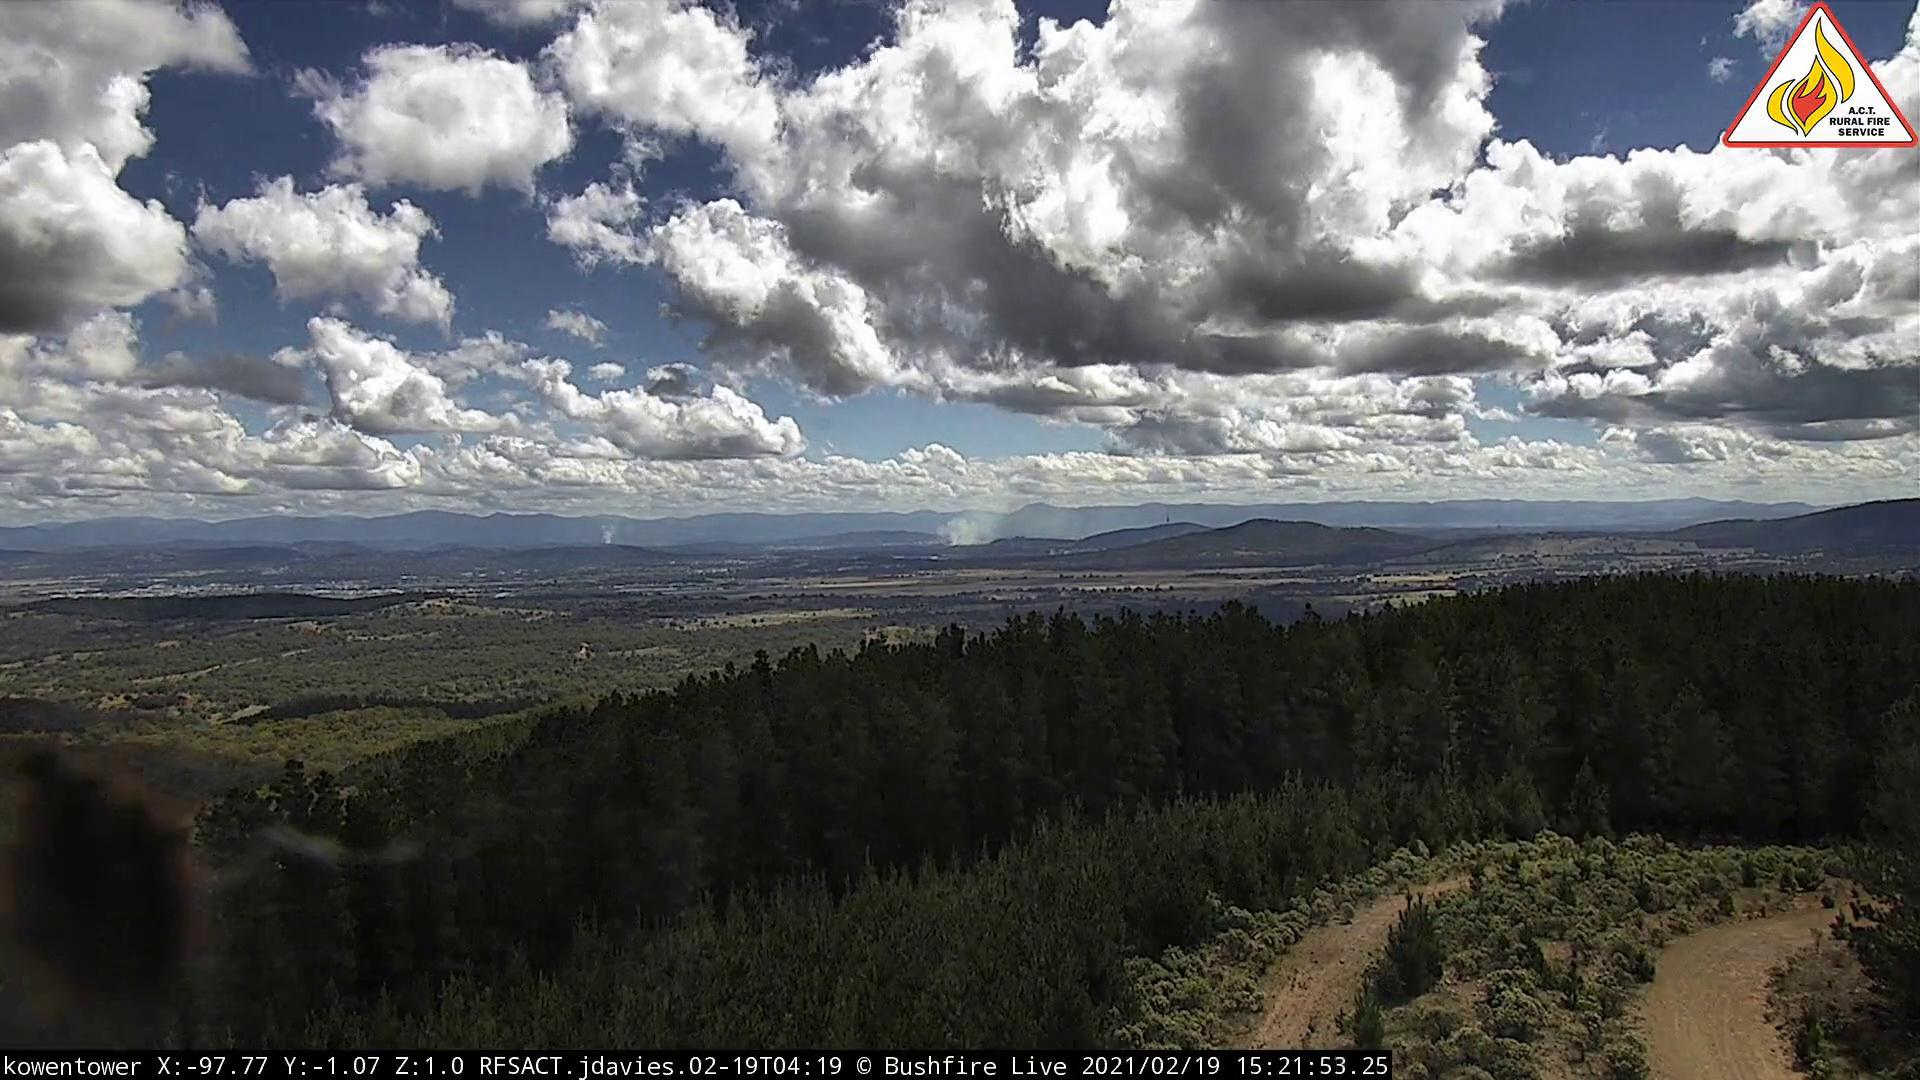Smoke: (935, 495, 1101, 553), (596, 517, 625, 553)
